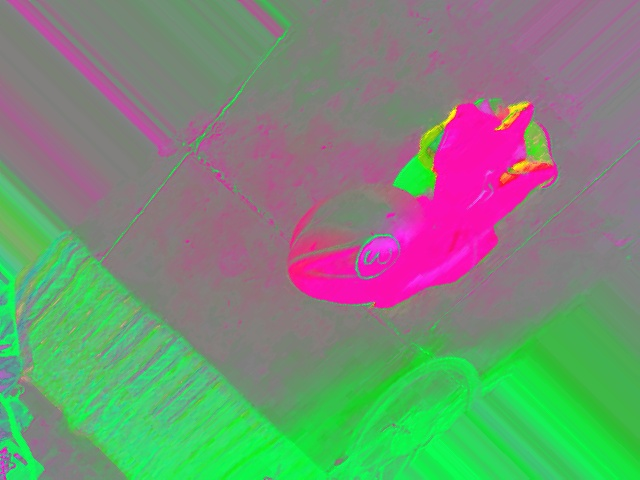three: (342, 227, 407, 287)
